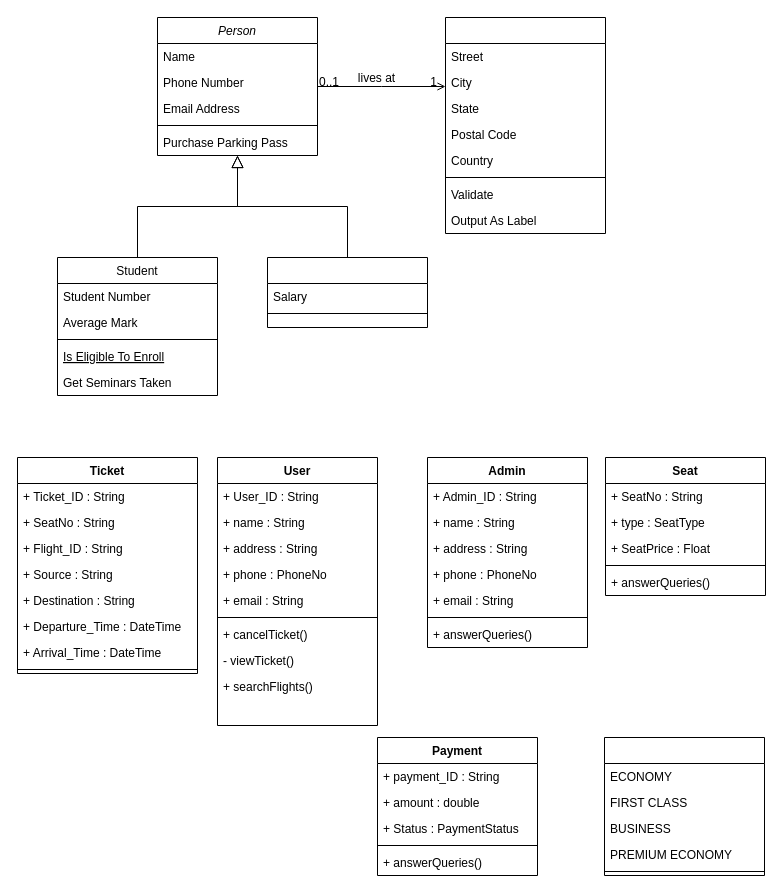
Some shapes in this 783 by 896 pixel diagram are drawn without their labels. The box of each missing label's shape, as (x1, y1, x2, y2) in pixels:
Address: (444, 16, 606, 234)
Professor: (266, 256, 428, 328)
SeatType: (604, 736, 764, 876)
